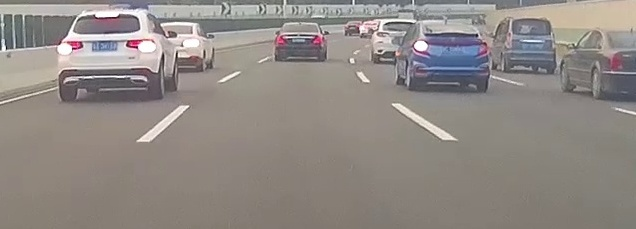L_light: (57, 41, 83, 55), (412, 38, 429, 58), (275, 35, 289, 47), (505, 31, 512, 49)
R_light: (126, 38, 157, 53), (476, 41, 489, 57), (311, 33, 323, 45), (550, 32, 556, 51)
T_light: (94, 12, 119, 18), (441, 21, 451, 25), (524, 17, 536, 20), (297, 23, 304, 26)
day-brake: (55, 9, 162, 101)
day-left: (409, 19, 489, 91)
day-no: (503, 16, 557, 72), (274, 22, 325, 62)
